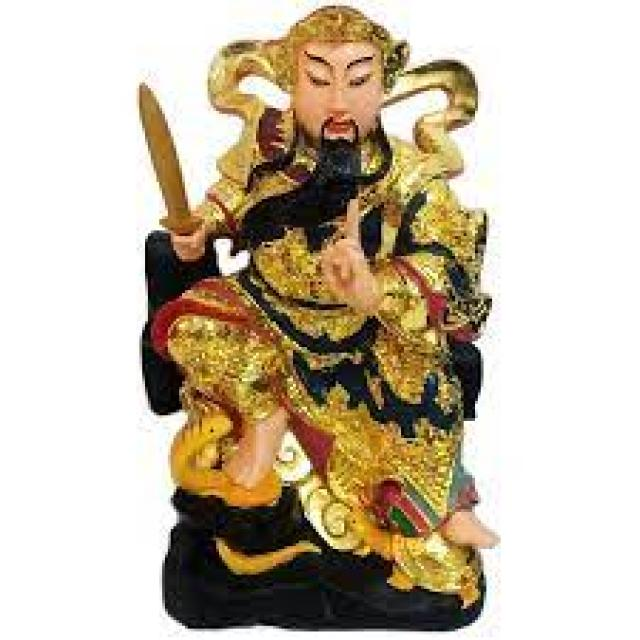Xuan wu: (154, 0, 505, 551)
